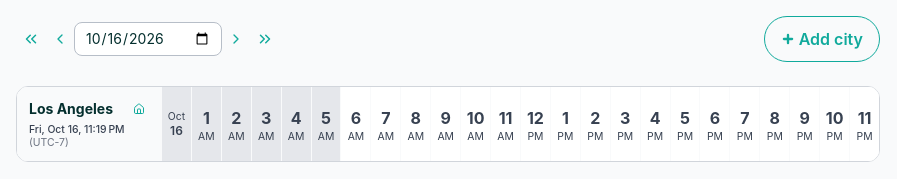
Test case: WorldClock › keeps a daylight-saving repeated hour within one table column
Type "2026-11-01" into the date field named "Comparison date".
click(148, 39); type("2026-11-01")  # box [74, 22, 222, 56]
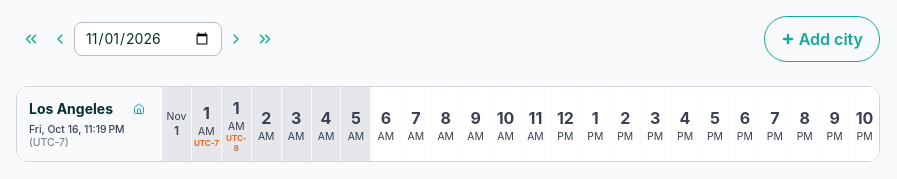
Now the cell "1 AM UTC-7" is shown, box [192, 87, 221, 161]
Now the cell "1 AM UTC-8" is shown, box [222, 87, 251, 161]
